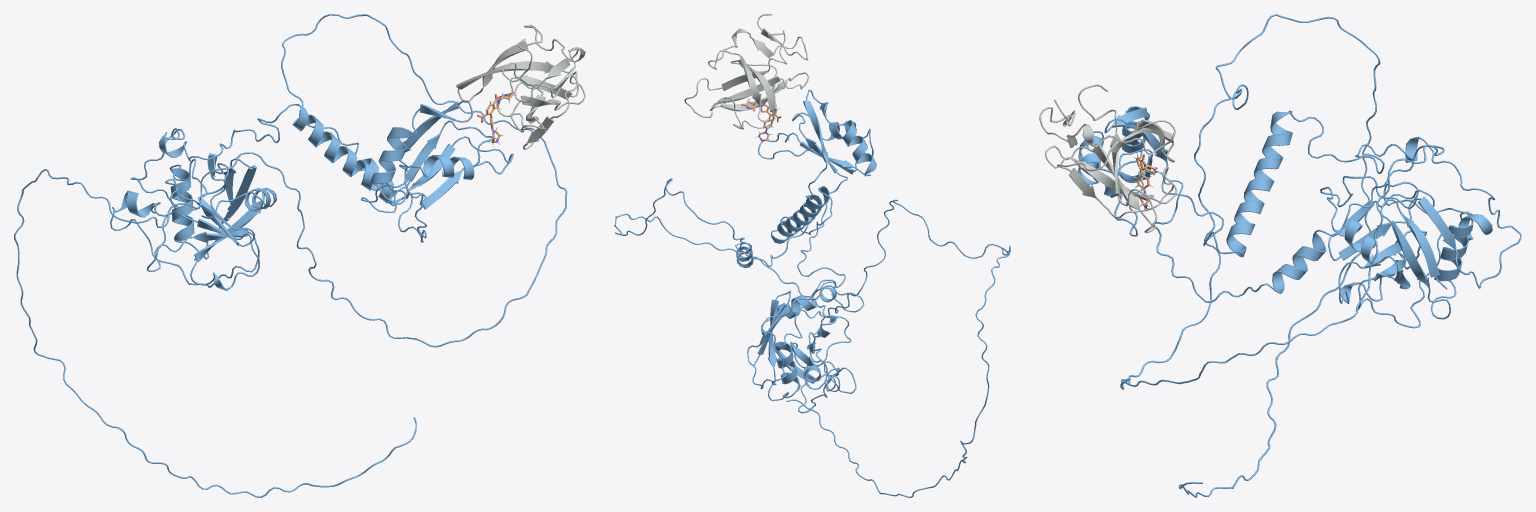
3 renders of one model, left to right at view 1: azimuth 30°, elevation 25°; view 2: azimuth 150°, elevation 25°; view 3: azimuth 270°, elevation 25°, orthographic. The views are drawn at different scales.
Parts seen in each view (by area): view 1: node-geom100, node-geom101; view 2: node-geom100, node-geom101; view 3: node-geom100, node-geom101.
Part boxes in pixels (x1,y1,x2,y2): node-geom100: (110,24,585,290); node-geom101: (14,14,567,497); node-geom100: (684,14,864,413); node-geom101: (614,89,1010,497); node-geom100: (1039,84,1521,328); node-geom101: (1078,14,1444,497).
Bounding box in the file's own units: 131 × 118 × 104.
